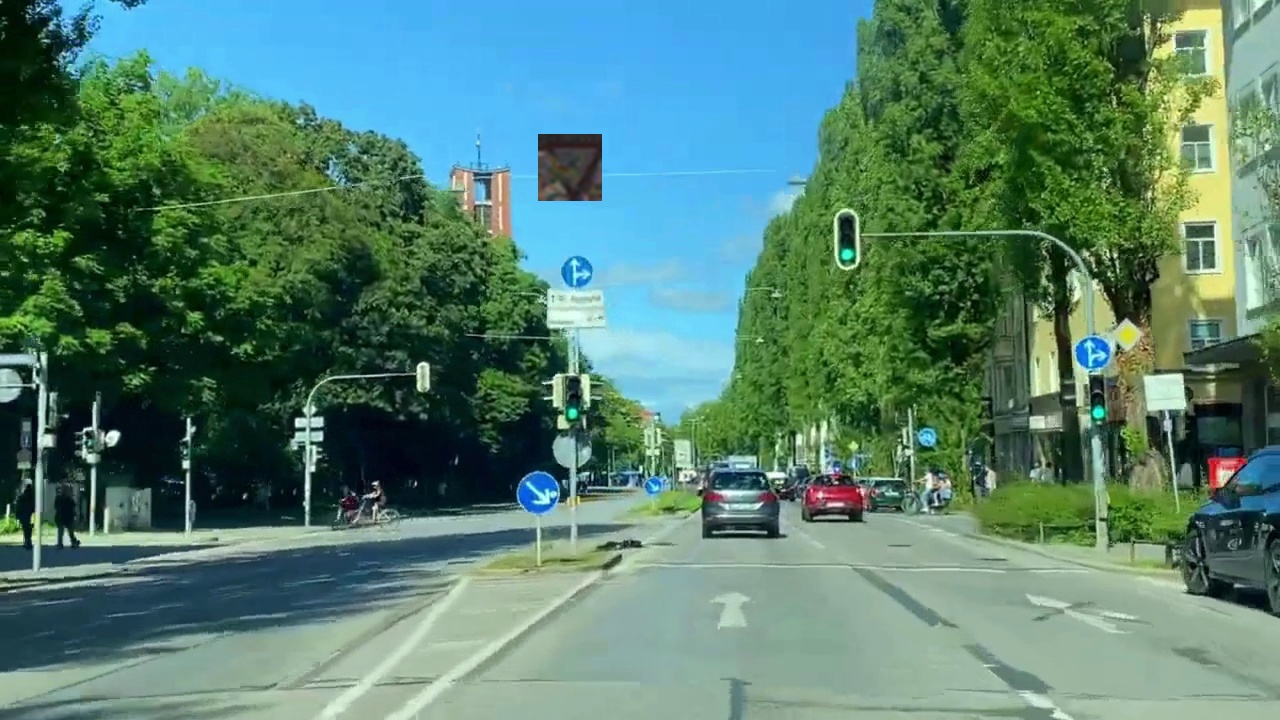Yield: (538, 134, 602, 201)
